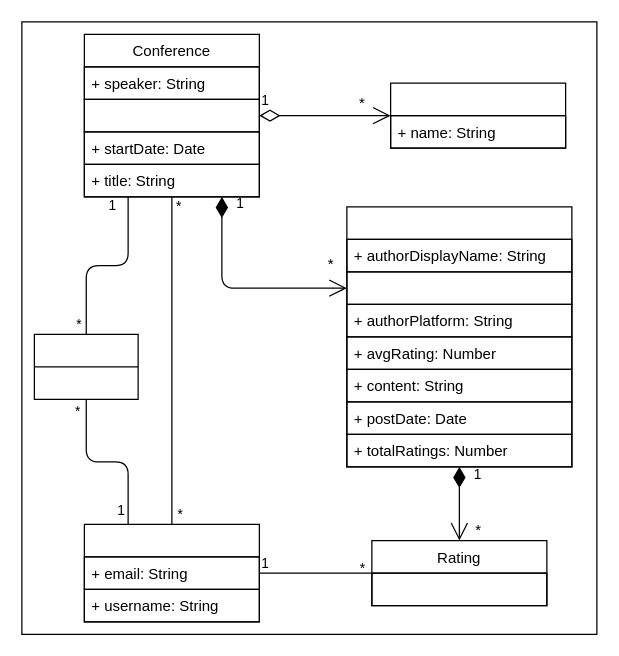
This 619x656 diagram has some shape labels left out. Here are the shapes that lost their labels. From the top down, the box of each, then its label:
(83, 98, 259, 132): + description: String
(389, 82, 566, 148): Topic
(346, 271, 572, 304): + authorID: String
(346, 206, 572, 467): Question
(33, 333, 138, 399): Invite
(83, 523, 259, 622): Moderators
(371, 572, 547, 606): + rating: Number
